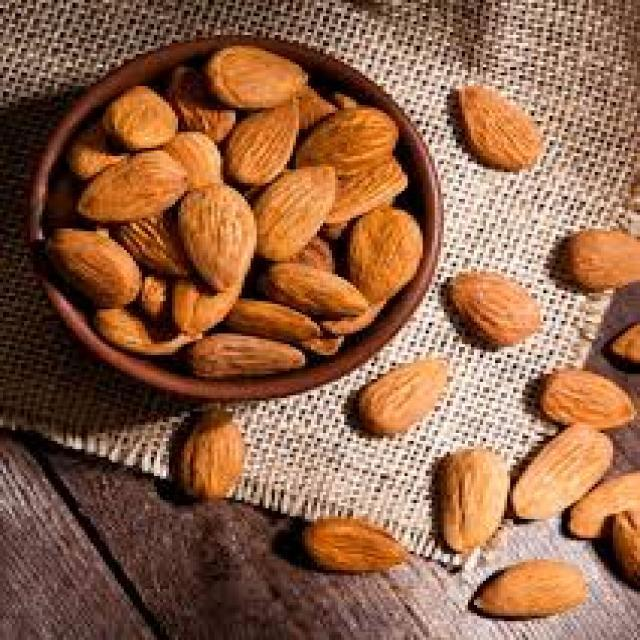almond: (510, 424, 615, 524), (248, 162, 335, 263), (455, 80, 548, 172), (177, 183, 255, 292), (80, 145, 188, 223), (42, 227, 142, 310), (350, 212, 425, 322), (173, 402, 250, 505), (465, 559, 587, 624), (439, 445, 509, 557), (443, 270, 542, 348), (297, 103, 400, 177), (357, 359, 452, 439), (205, 43, 315, 107), (225, 102, 302, 190), (300, 513, 408, 575), (260, 259, 368, 319), (539, 370, 639, 432), (555, 228, 640, 290), (190, 332, 305, 375), (102, 85, 178, 148)
